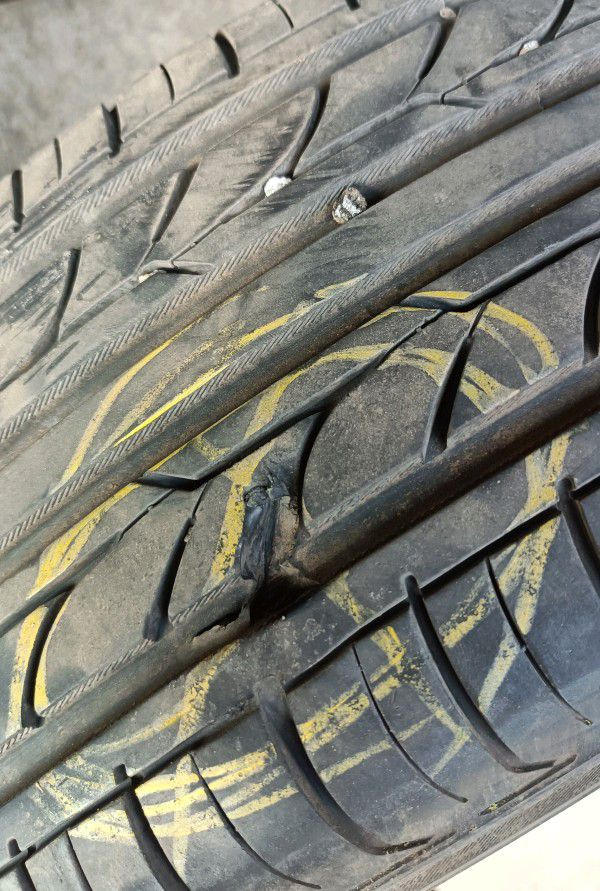tr: (186, 442, 350, 669)
